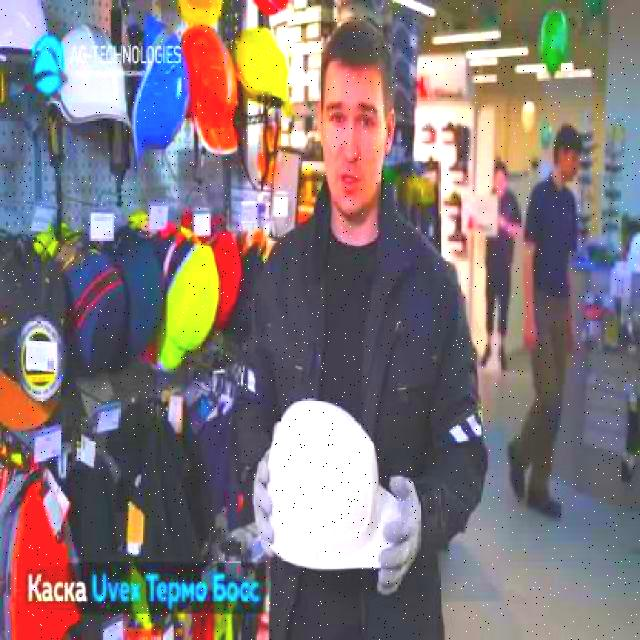Gloves: (376, 472, 422, 598), (252, 447, 278, 561)
Helmet: (264, 394, 402, 576), (46, 20, 134, 134), (130, 11, 192, 166), (179, 23, 239, 156), (234, 24, 294, 118), (0, 0, 61, 72)
